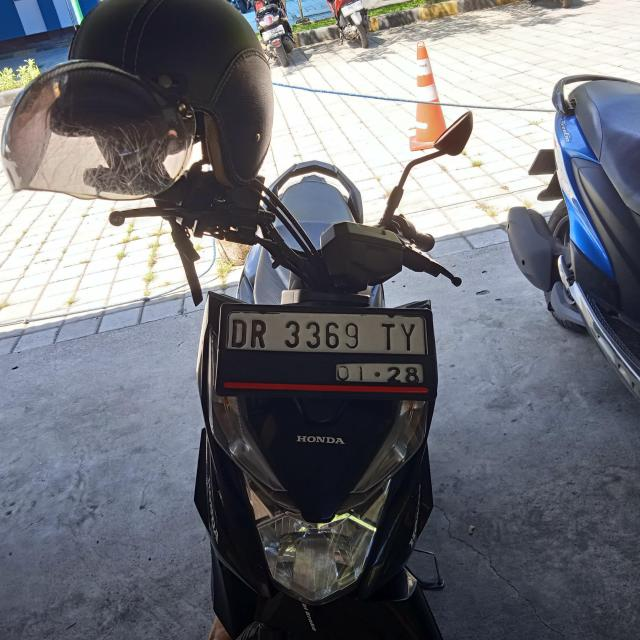plate: (225, 312, 427, 386)
